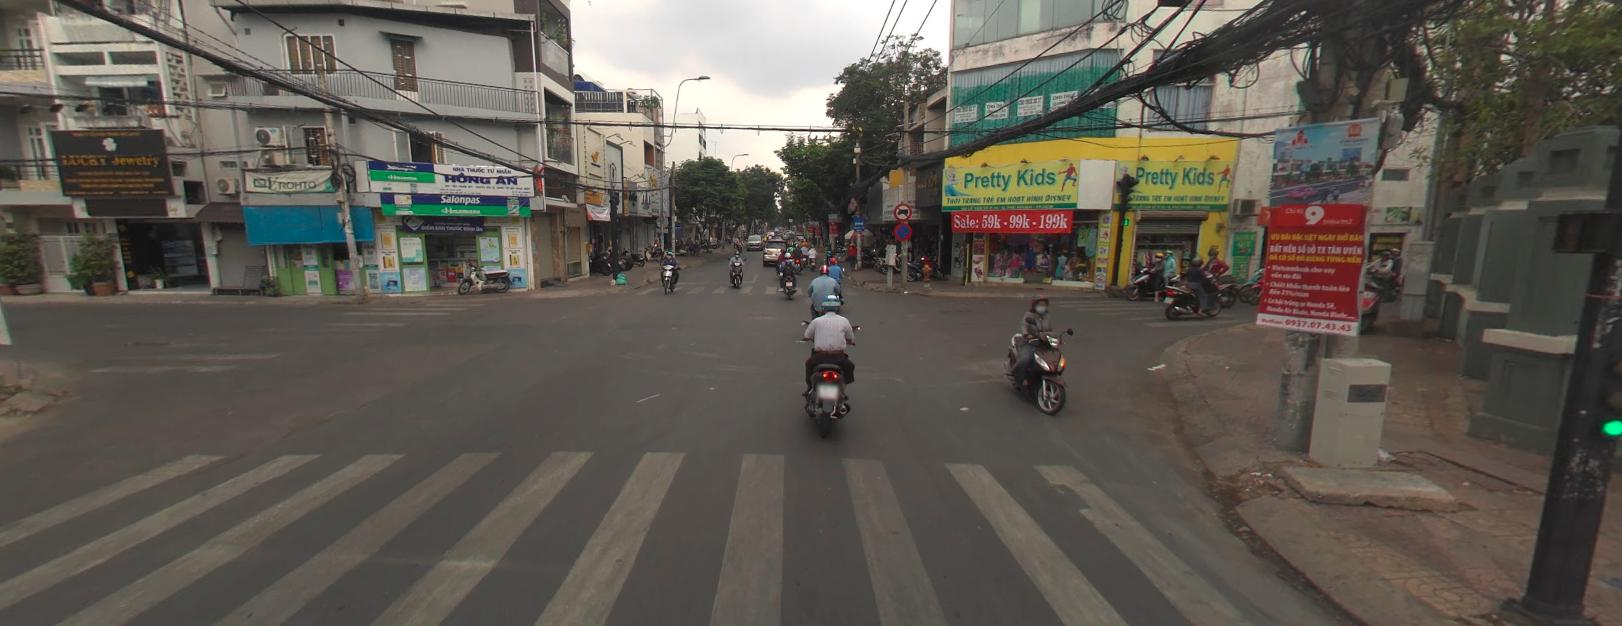Cam con lai: (893, 202, 912, 220)
Cam dung va do: (893, 221, 913, 240)
